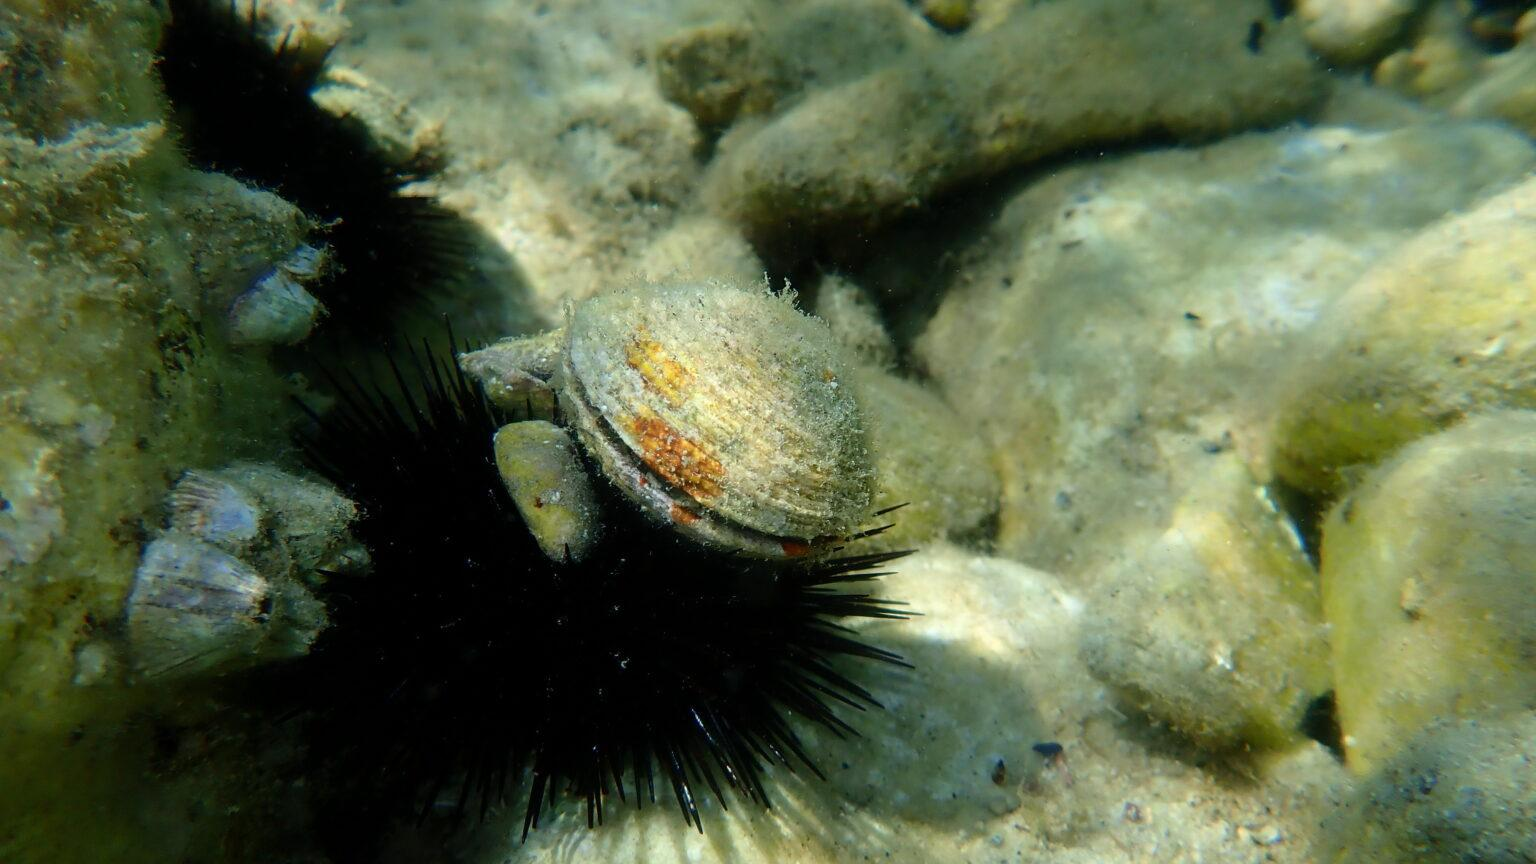urchin: (305, 376, 920, 836)
